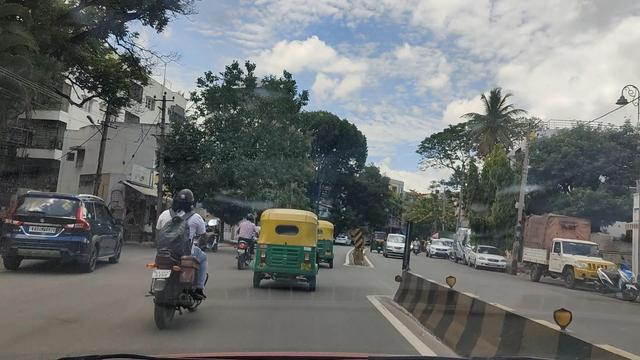LMV: (9, 186, 125, 287), (149, 186, 210, 327), (259, 204, 318, 301), (305, 226, 344, 272), (234, 211, 258, 279)
